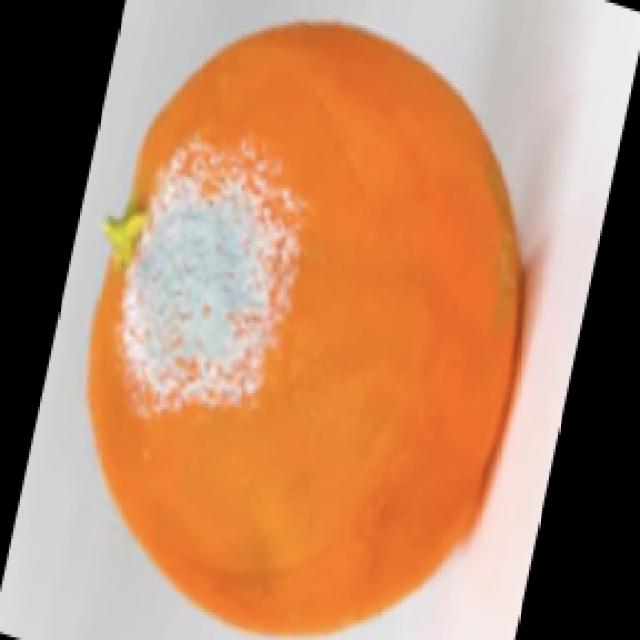sedikit_busuk: (92, 24, 523, 630)
